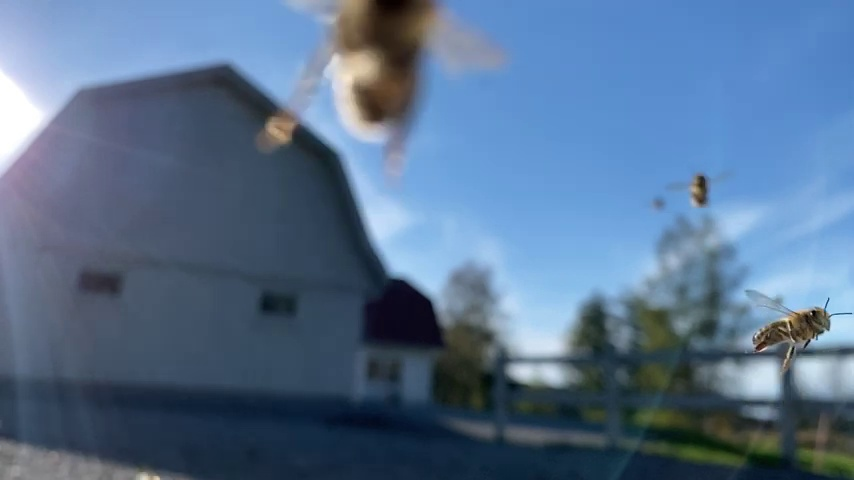insect: (252, 0, 506, 168), (741, 288, 852, 372), (676, 172, 724, 213)
